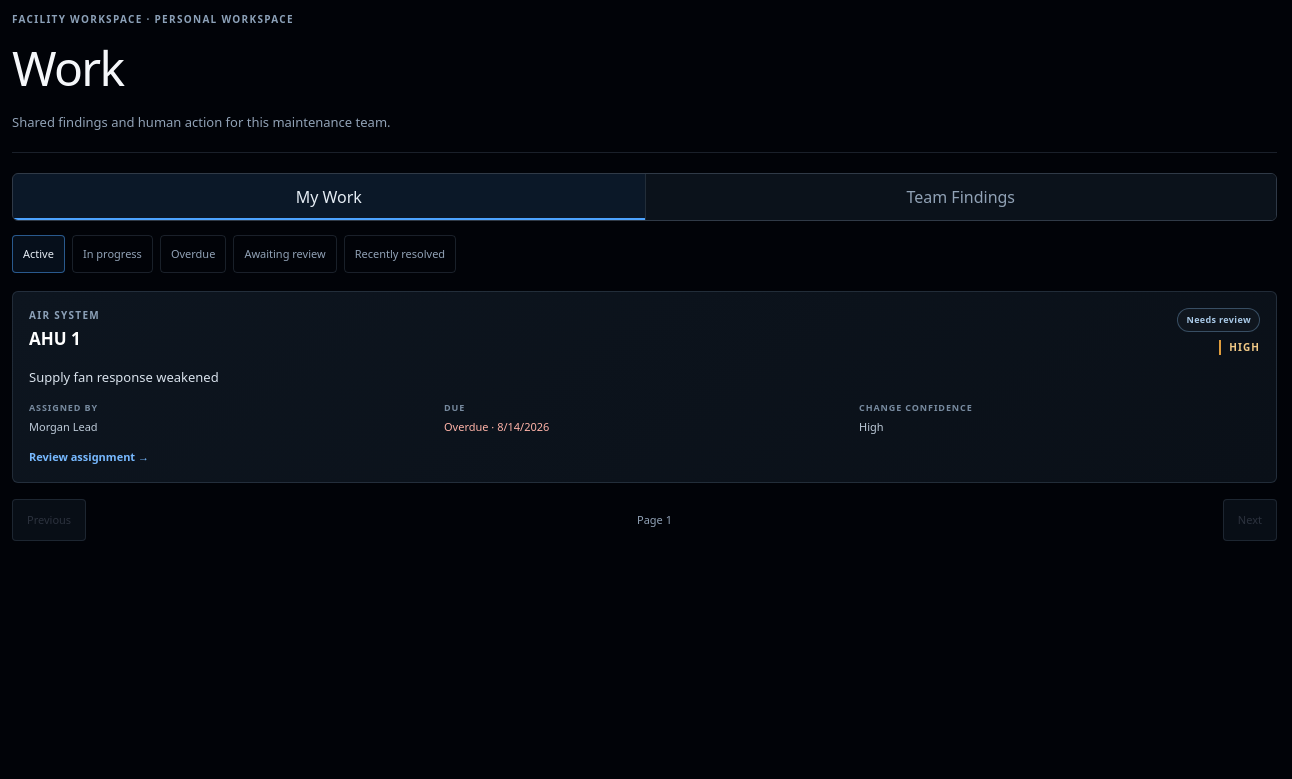
Test: shared maintenance Work area › reports member loading failures and disables assignment selection
The image size is (1292, 779).
Click the button with aria-label "Open AHU 1" at (644, 387), box [13, 292, 1276, 482]
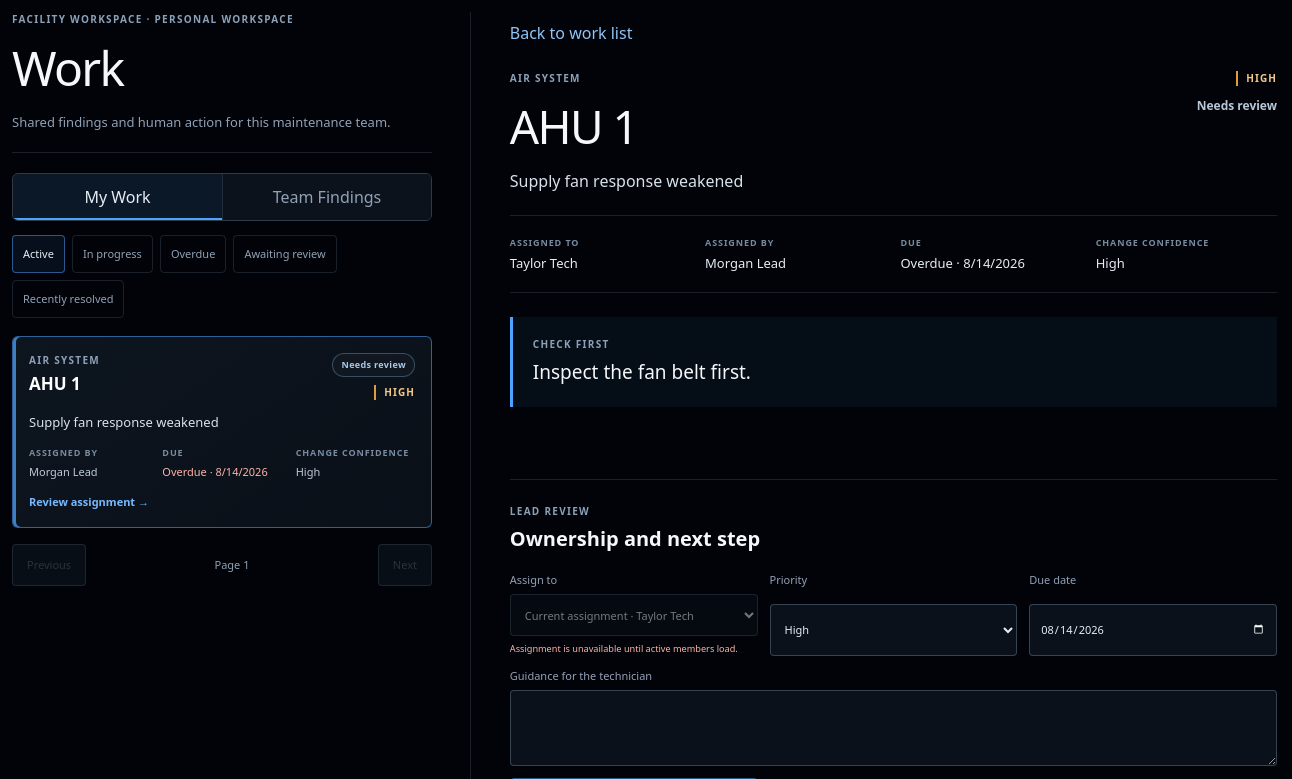
Expected: the text "Assignment is unavailable until active members load." is shown, [510, 642, 758, 656]
Expected: the dropdown labelled "Assign to" is disabled, [510, 594, 758, 636]
